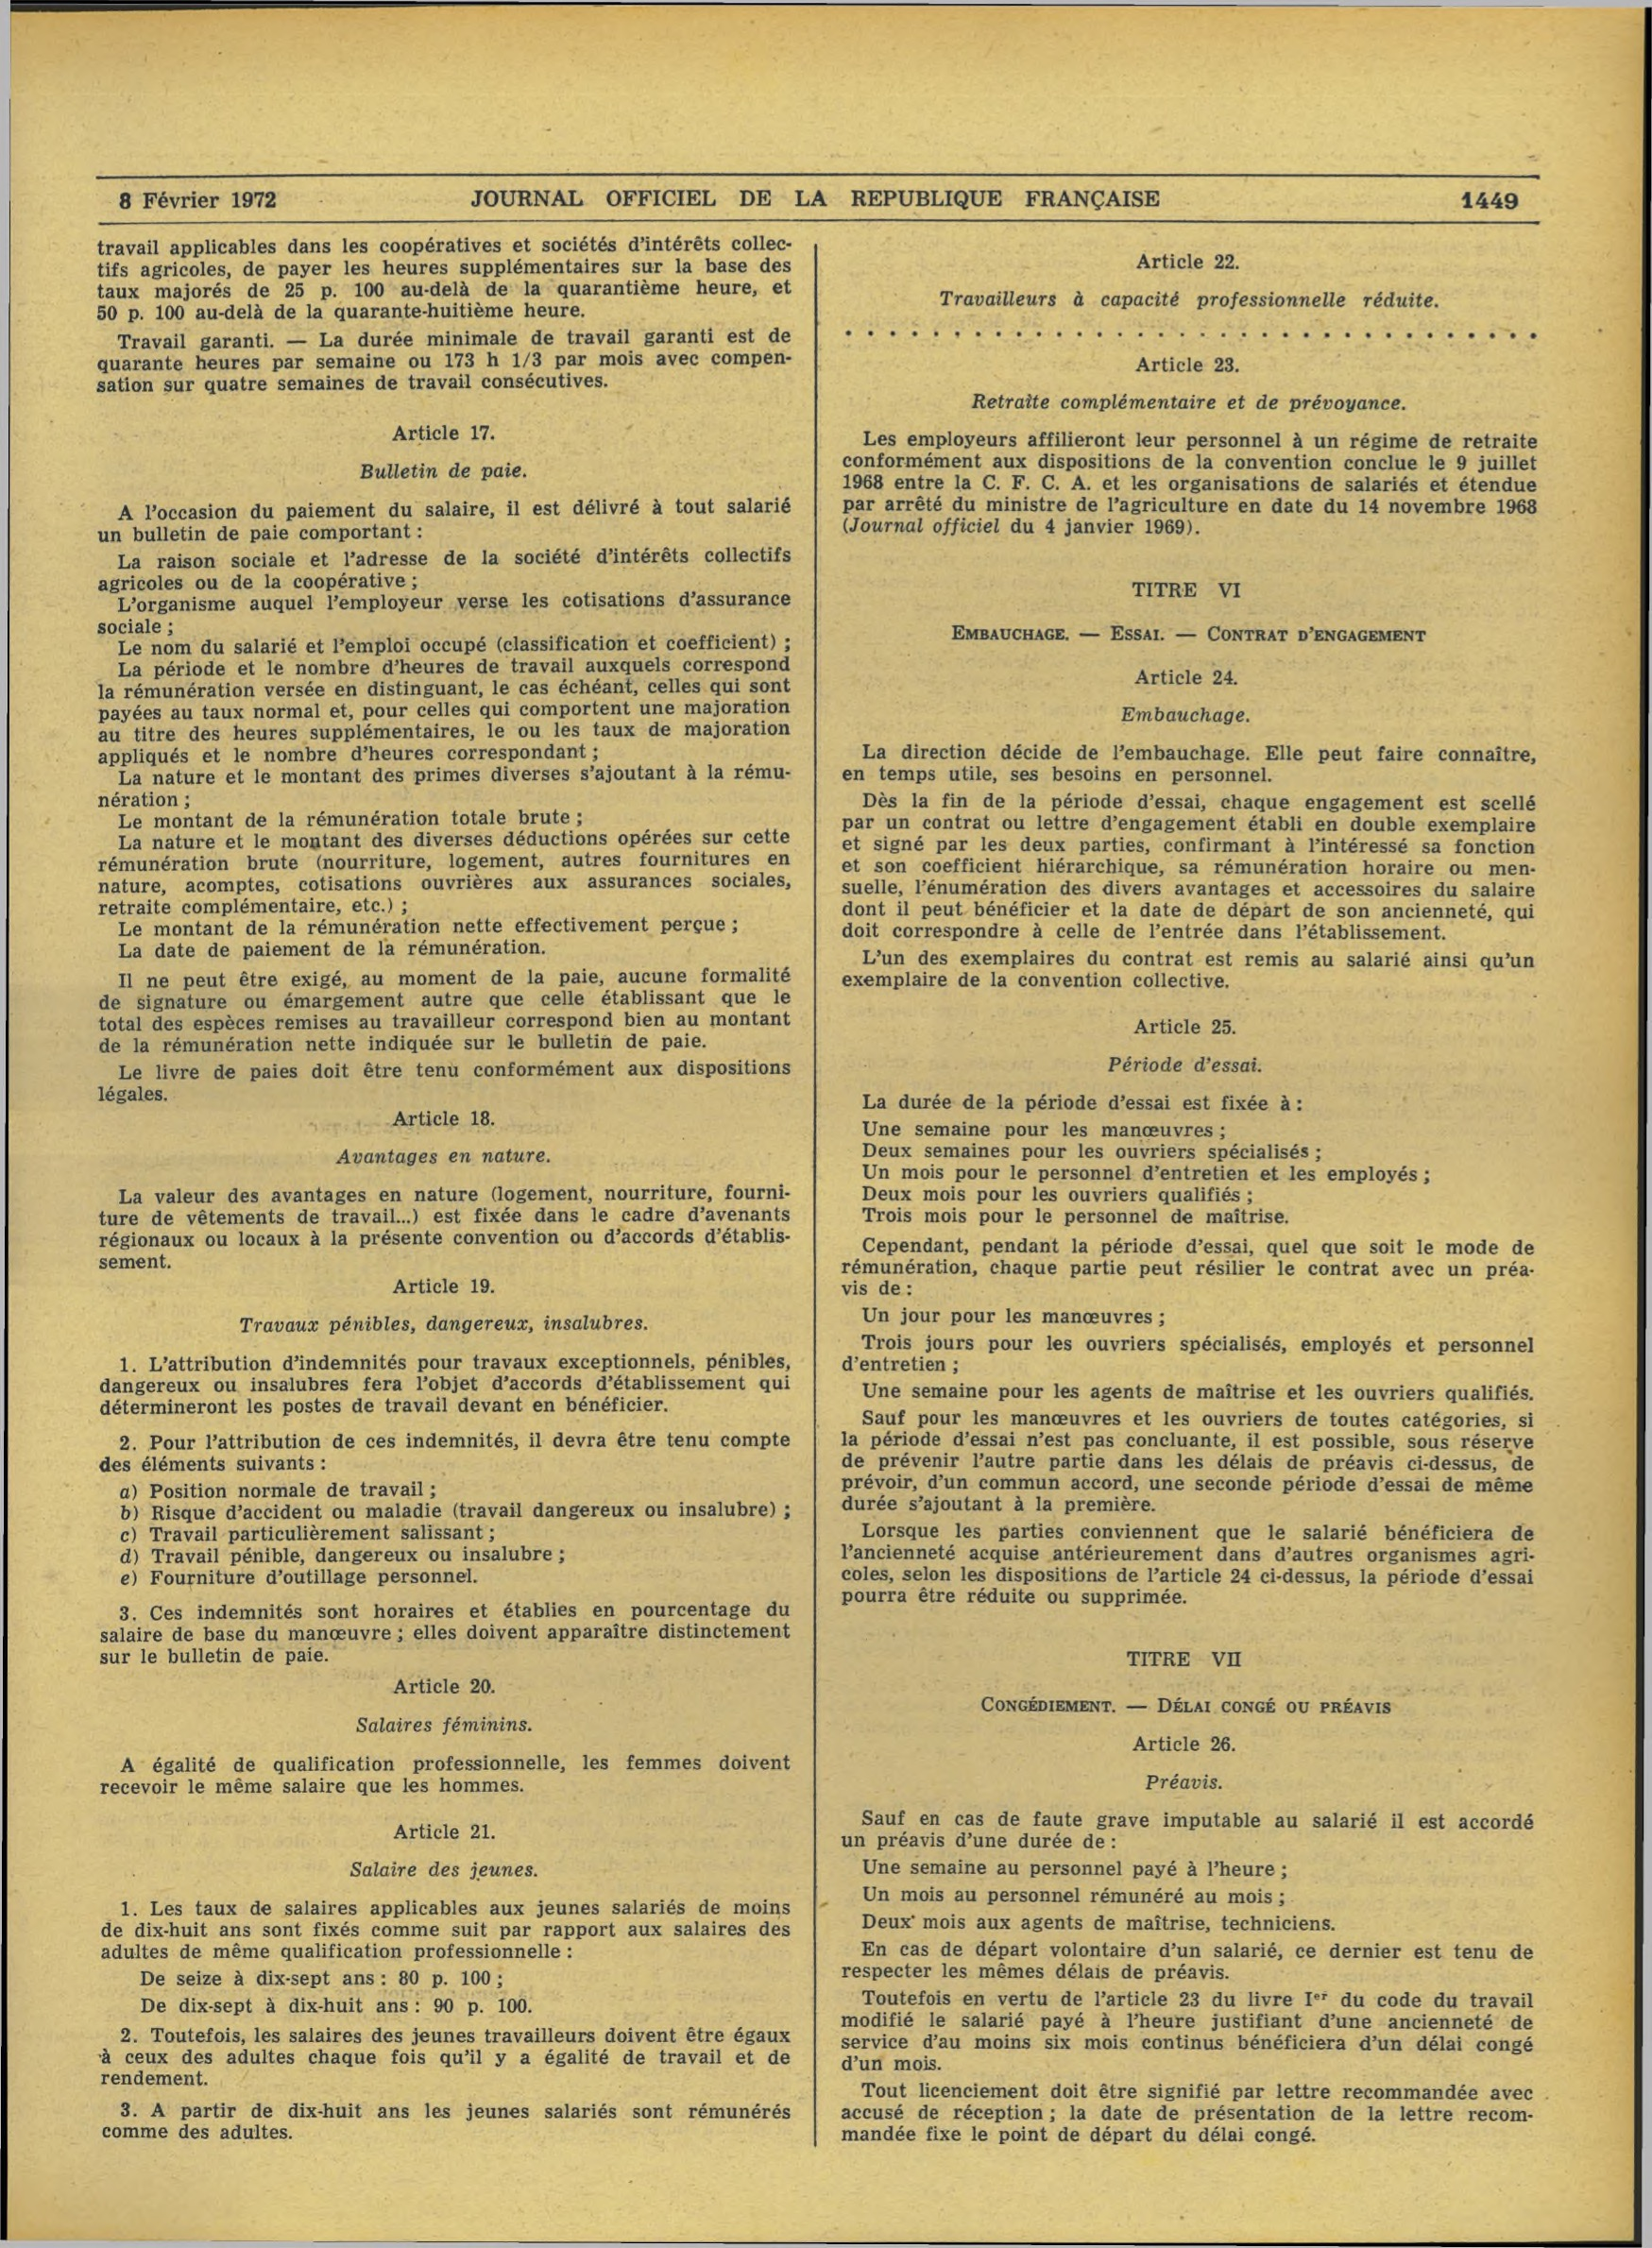GraphicZone-Decoration: (835, 316, 1531, 349)
MainZone-Continued: (90, 230, 796, 324)
MainZone-Date: (108, 185, 283, 215)
MainZone-Head: (972, 1675, 1399, 1762), (228, 1307, 662, 1341), (962, 388, 1416, 420), (941, 621, 1438, 649), (331, 1142, 557, 1174), (343, 1855, 543, 1886), (349, 1709, 536, 1742), (353, 456, 531, 489), (1100, 1051, 1267, 1081), (1121, 1642, 1248, 1677), (1116, 571, 1250, 604), (1114, 703, 1252, 732), (386, 418, 499, 452), (1122, 661, 1244, 691), (385, 1270, 500, 1303), (387, 1672, 501, 1704), (1128, 1013, 1240, 1045), (387, 1816, 498, 1848), (1116, 351, 1251, 378), (385, 1104, 498, 1135), (1132, 247, 1245, 277), (1138, 1768, 1228, 1796)
MainZone-ListItem: (91, 1346, 797, 1422), (94, 1597, 797, 1670), (90, 2022, 792, 2094), (91, 1892, 788, 1964), (94, 2095, 797, 2152), (93, 1427, 798, 1476), (113, 1501, 794, 1541), (844, 1163, 1439, 1184), (843, 1140, 1346, 1164), (113, 1544, 577, 1569), (843, 1206, 1306, 1231), (845, 1184, 1299, 1207), (845, 1115, 1235, 1142), (104, 1567, 480, 1591), (101, 1477, 439, 1502)
MainZone-P: (834, 788, 1542, 945), (835, 425, 1546, 545), (832, 1405, 1541, 1517), (89, 660, 802, 765), (832, 1518, 1541, 1615), (89, 1180, 794, 1273), (89, 966, 799, 1057), (833, 1985, 1541, 2075), (88, 829, 797, 916), (833, 2076, 1541, 2154), (90, 326, 796, 401), (835, 1233, 1540, 1303), (91, 1747, 792, 1804), (835, 944, 1541, 997), (833, 738, 1545, 791), (87, 495, 796, 547), (831, 1803, 1538, 1854), (90, 1054, 798, 1104), (831, 1937, 1540, 1986), (832, 1331, 1543, 1378), (88, 547, 798, 592), (88, 591, 797, 636), (89, 765, 802, 809), (89, 938, 794, 965), (87, 914, 798, 941), (835, 1377, 1543, 1404), (88, 636, 797, 660), (832, 1908, 1344, 1938), (921, 283, 1445, 313), (842, 1084, 1315, 1115), (831, 1854, 1300, 1882), (106, 807, 608, 831), (831, 1882, 1289, 1909), (829, 1302, 1176, 1331)
StampZone: (458, 178, 1167, 218), (1452, 187, 1524, 217)
